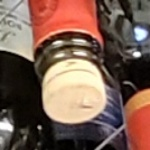bottle: (19, 24, 126, 126)
